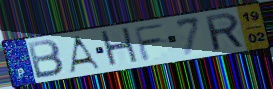7: (175, 14, 203, 59)
A: (67, 34, 103, 74)
B: (26, 38, 67, 80)
F: (132, 21, 168, 64)
H: (99, 26, 142, 70)
R: (203, 11, 246, 53)
